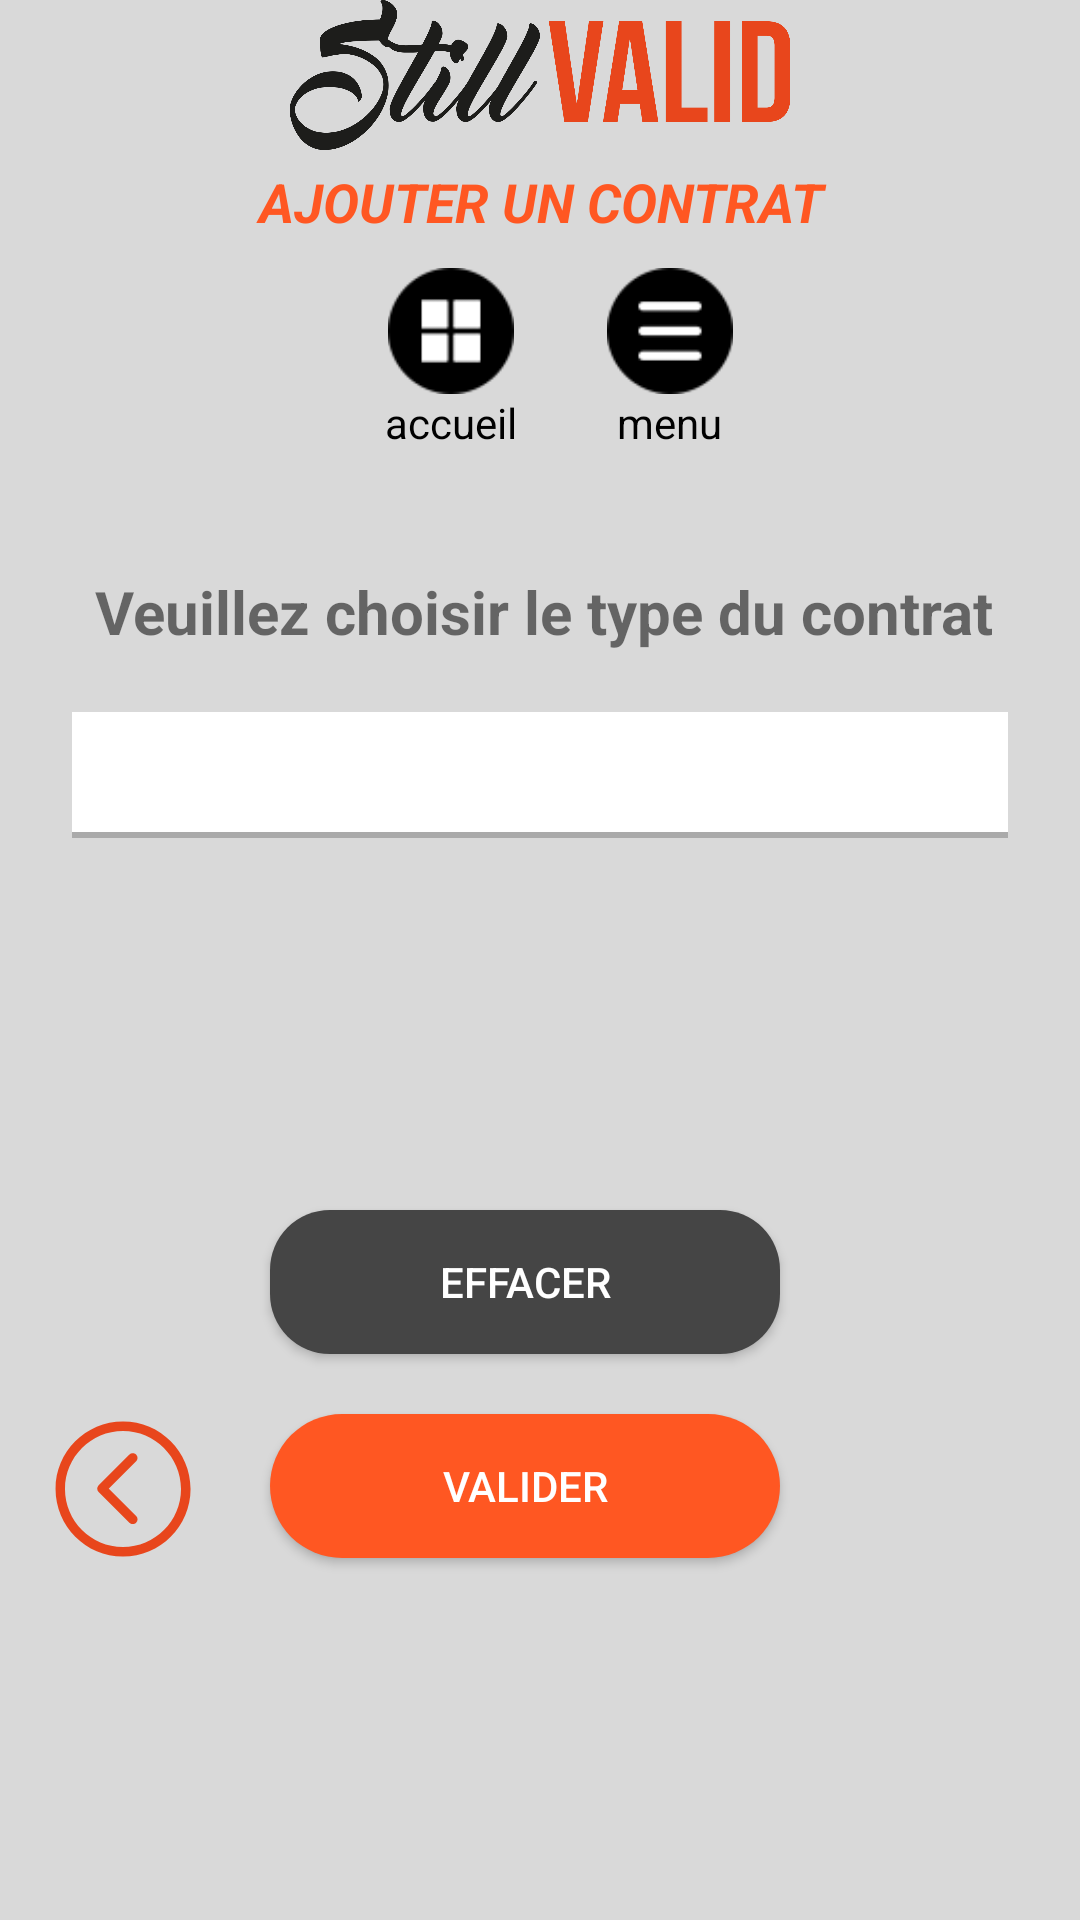

Named icons in this screenshot (1080x1920) and their centers, [x,y]:
left: [123,1489]
